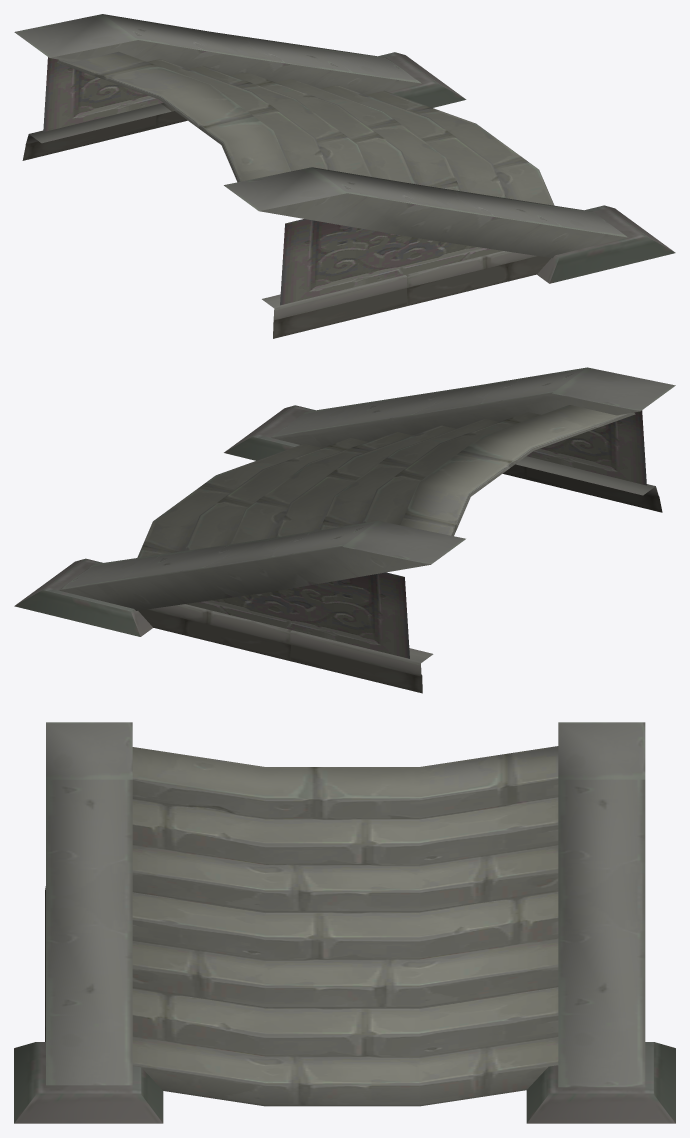
The model's file is louti_Forest_02.FBX.
3 renders of one model, top to bottom at view 1: azimuth 30°, elevation 25°; view 2: azimuth 150°, elevation 25°; view 3: azimuth 270°, elevation 25°, orthographic. The views are drawn at different scales.
Visible parts, largest first — view 1: louti_Forest_02; view 2: louti_Forest_02; view 3: louti_Forest_02.
Boxes of the visible parts, x1,y1,x2,y2 form: louti_Forest_02: (14,14,675,338); louti_Forest_02: (14,367,675,693); louti_Forest_02: (14,722,675,1123).
Size of the model in its own units: 69.17 by 22.03 by 80.15.
